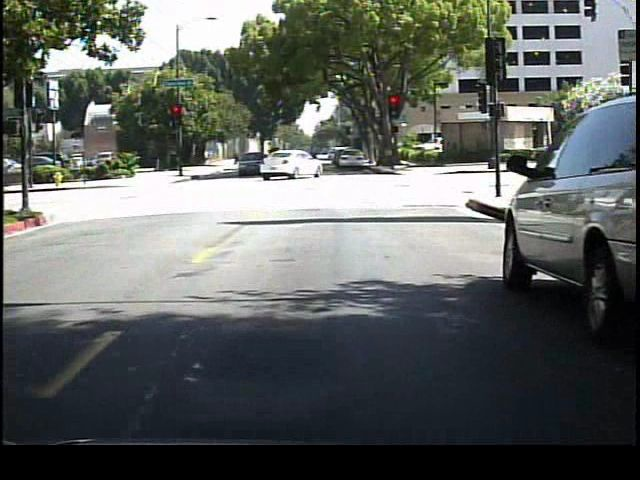person: (304, 142, 320, 177)
